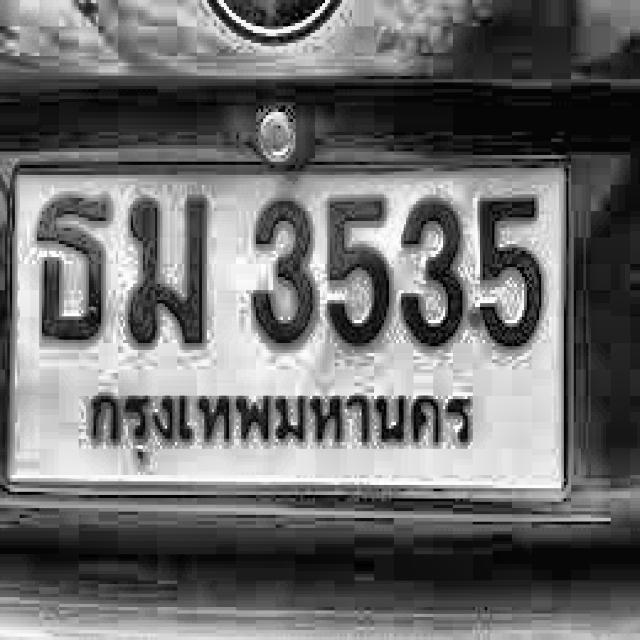license-plate: (0, 136, 609, 534)
